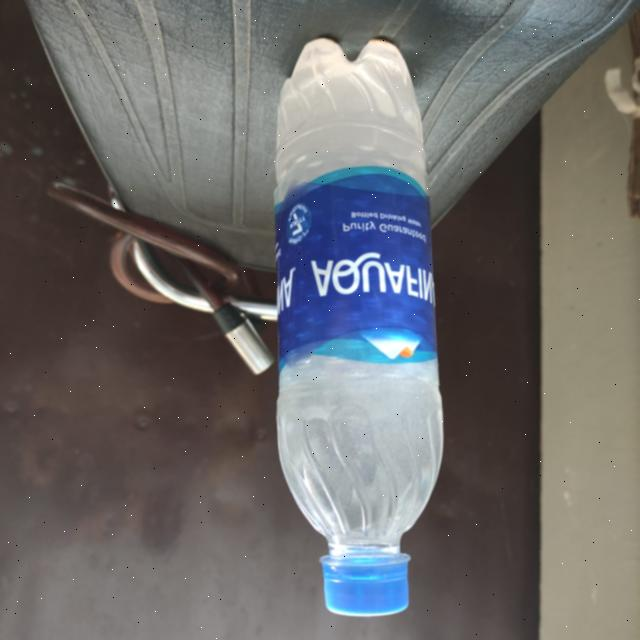bottle: (274, 24, 442, 618)
cap: (322, 546, 416, 622)
label: (275, 168, 435, 356)
